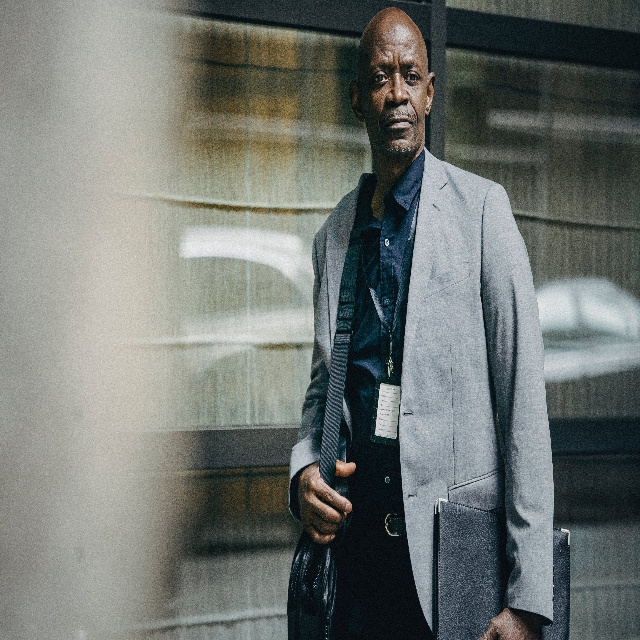Sin_guantes: (296, 455, 357, 545), (475, 607, 541, 640)
